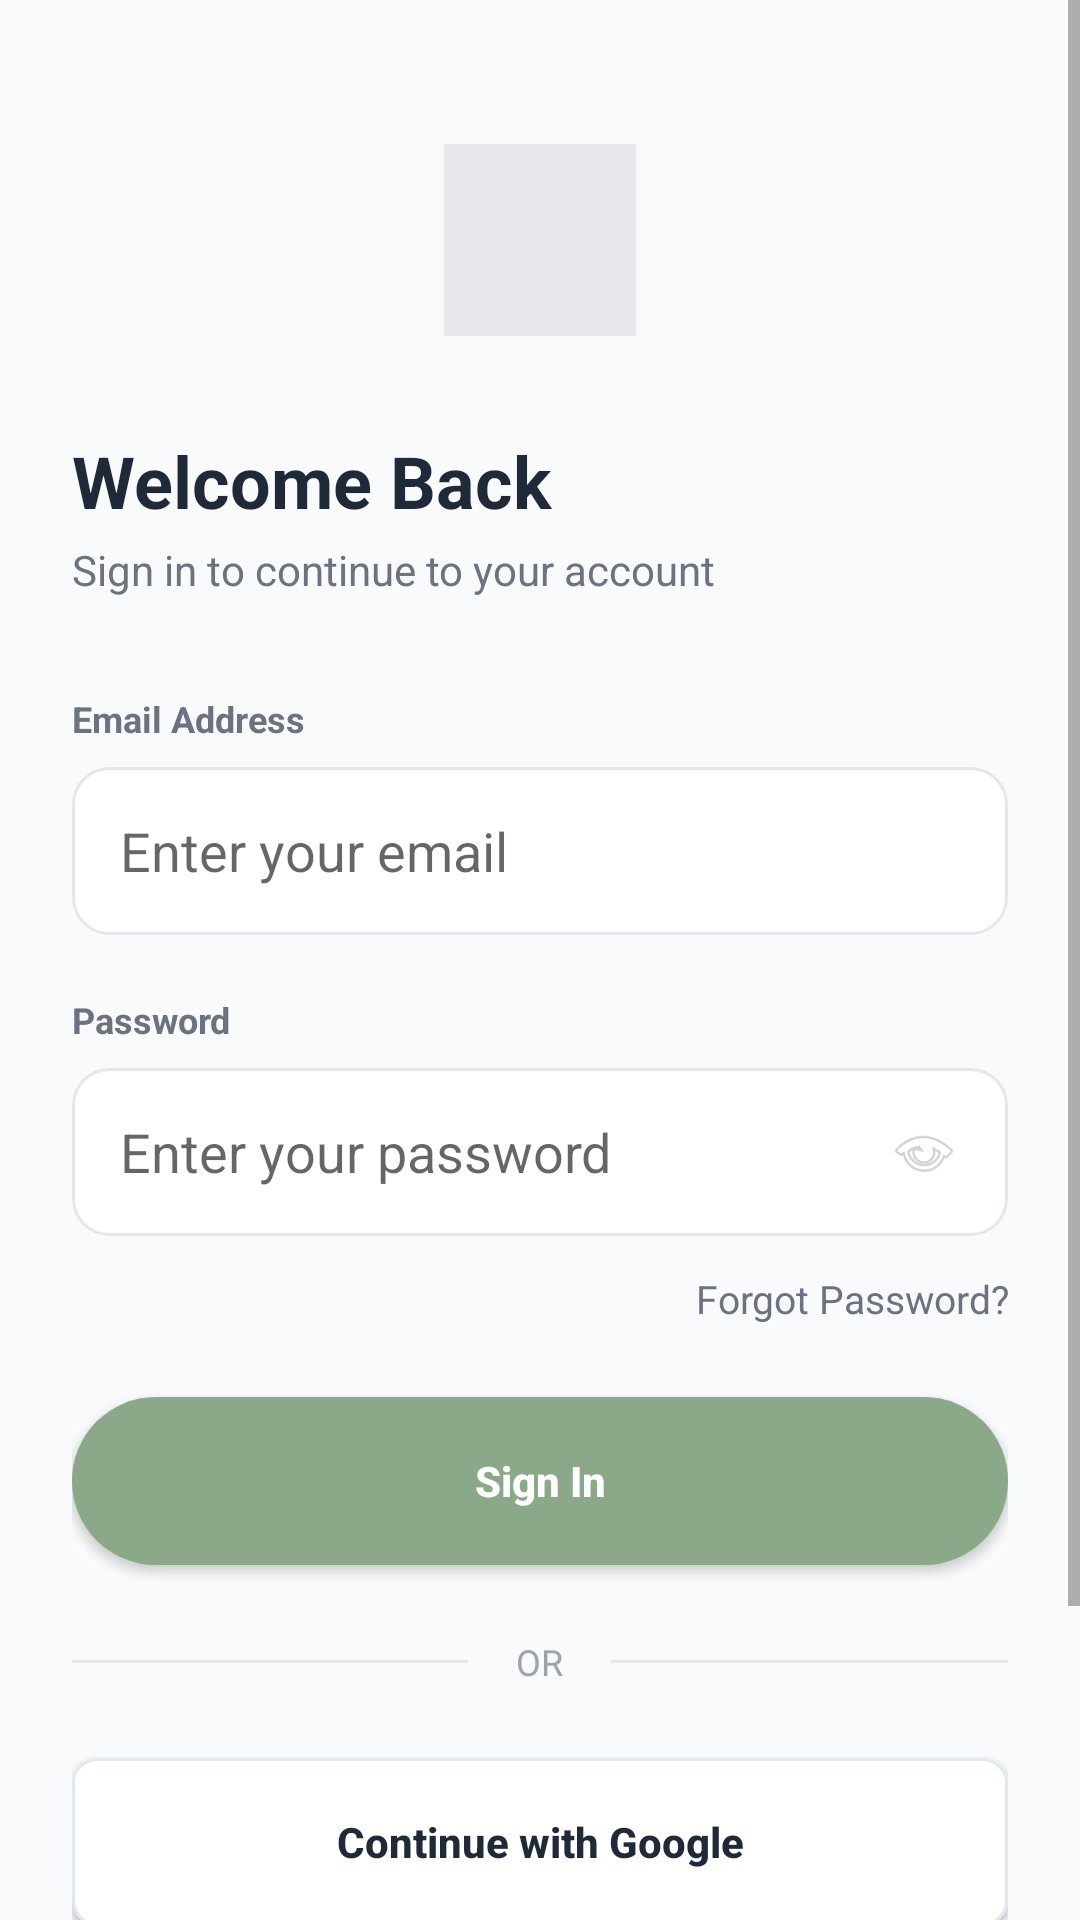

Locate icon controls on the screen. Image size 1080 x 1920, boxes as [left=x1, top=y1, right=x2, bottom=y2].
Toggle Password: [left=895, top=1136, right=953, bottom=1172]
